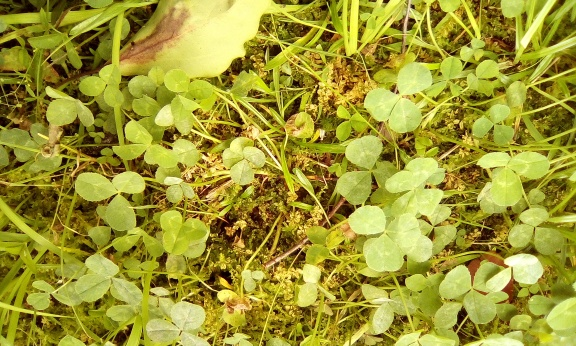4leaf: (385, 157, 442, 218), (222, 136, 266, 185)
